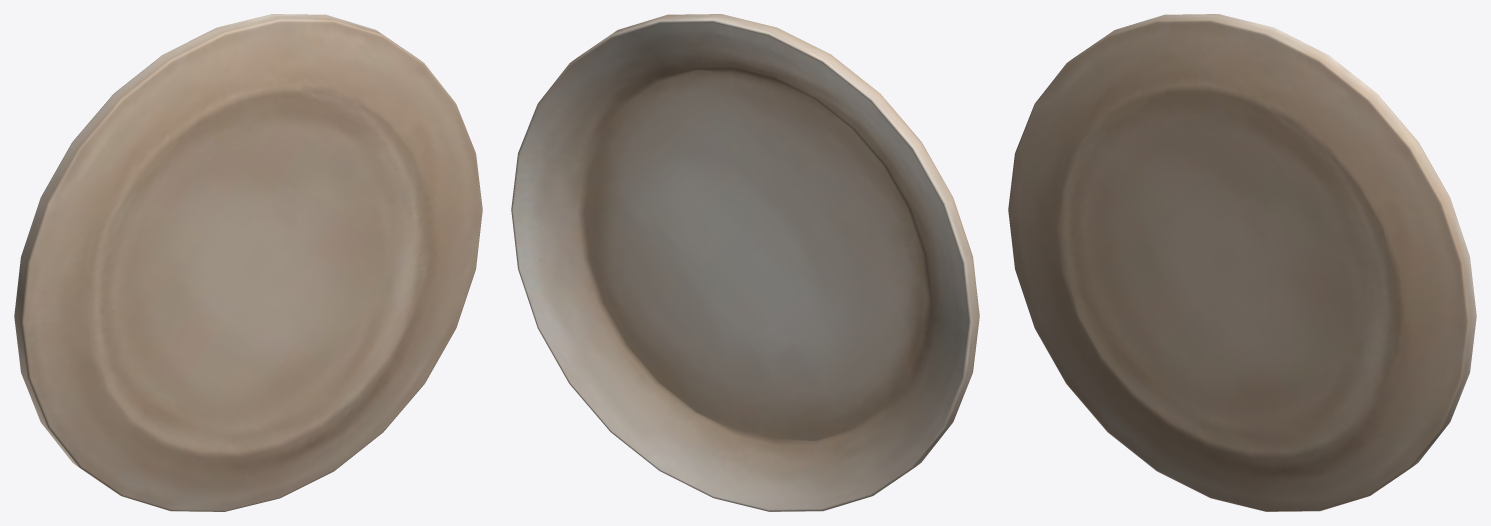
Rendered from Plato01 Fin.FBX.
3 views of the same model, side by side, from view 1: azimuth 30°, elevation 25°; view 2: azimuth 150°, elevation 25°; view 3: azimuth 330°, elevation 25° (orthographic).
Parts seen in each view (by area): view 1: Plato01; view 2: Plato01; view 3: Plato01.
Boxes of the visible parts, <box> form: Plato01: <box>14,14,482,511</box>; Plato01: <box>511,14,979,511</box>; Plato01: <box>1008,14,1476,511</box>.
Size of the model in its own units: 40 by 39.71 by 2.48.
1 material, 1 textured.
